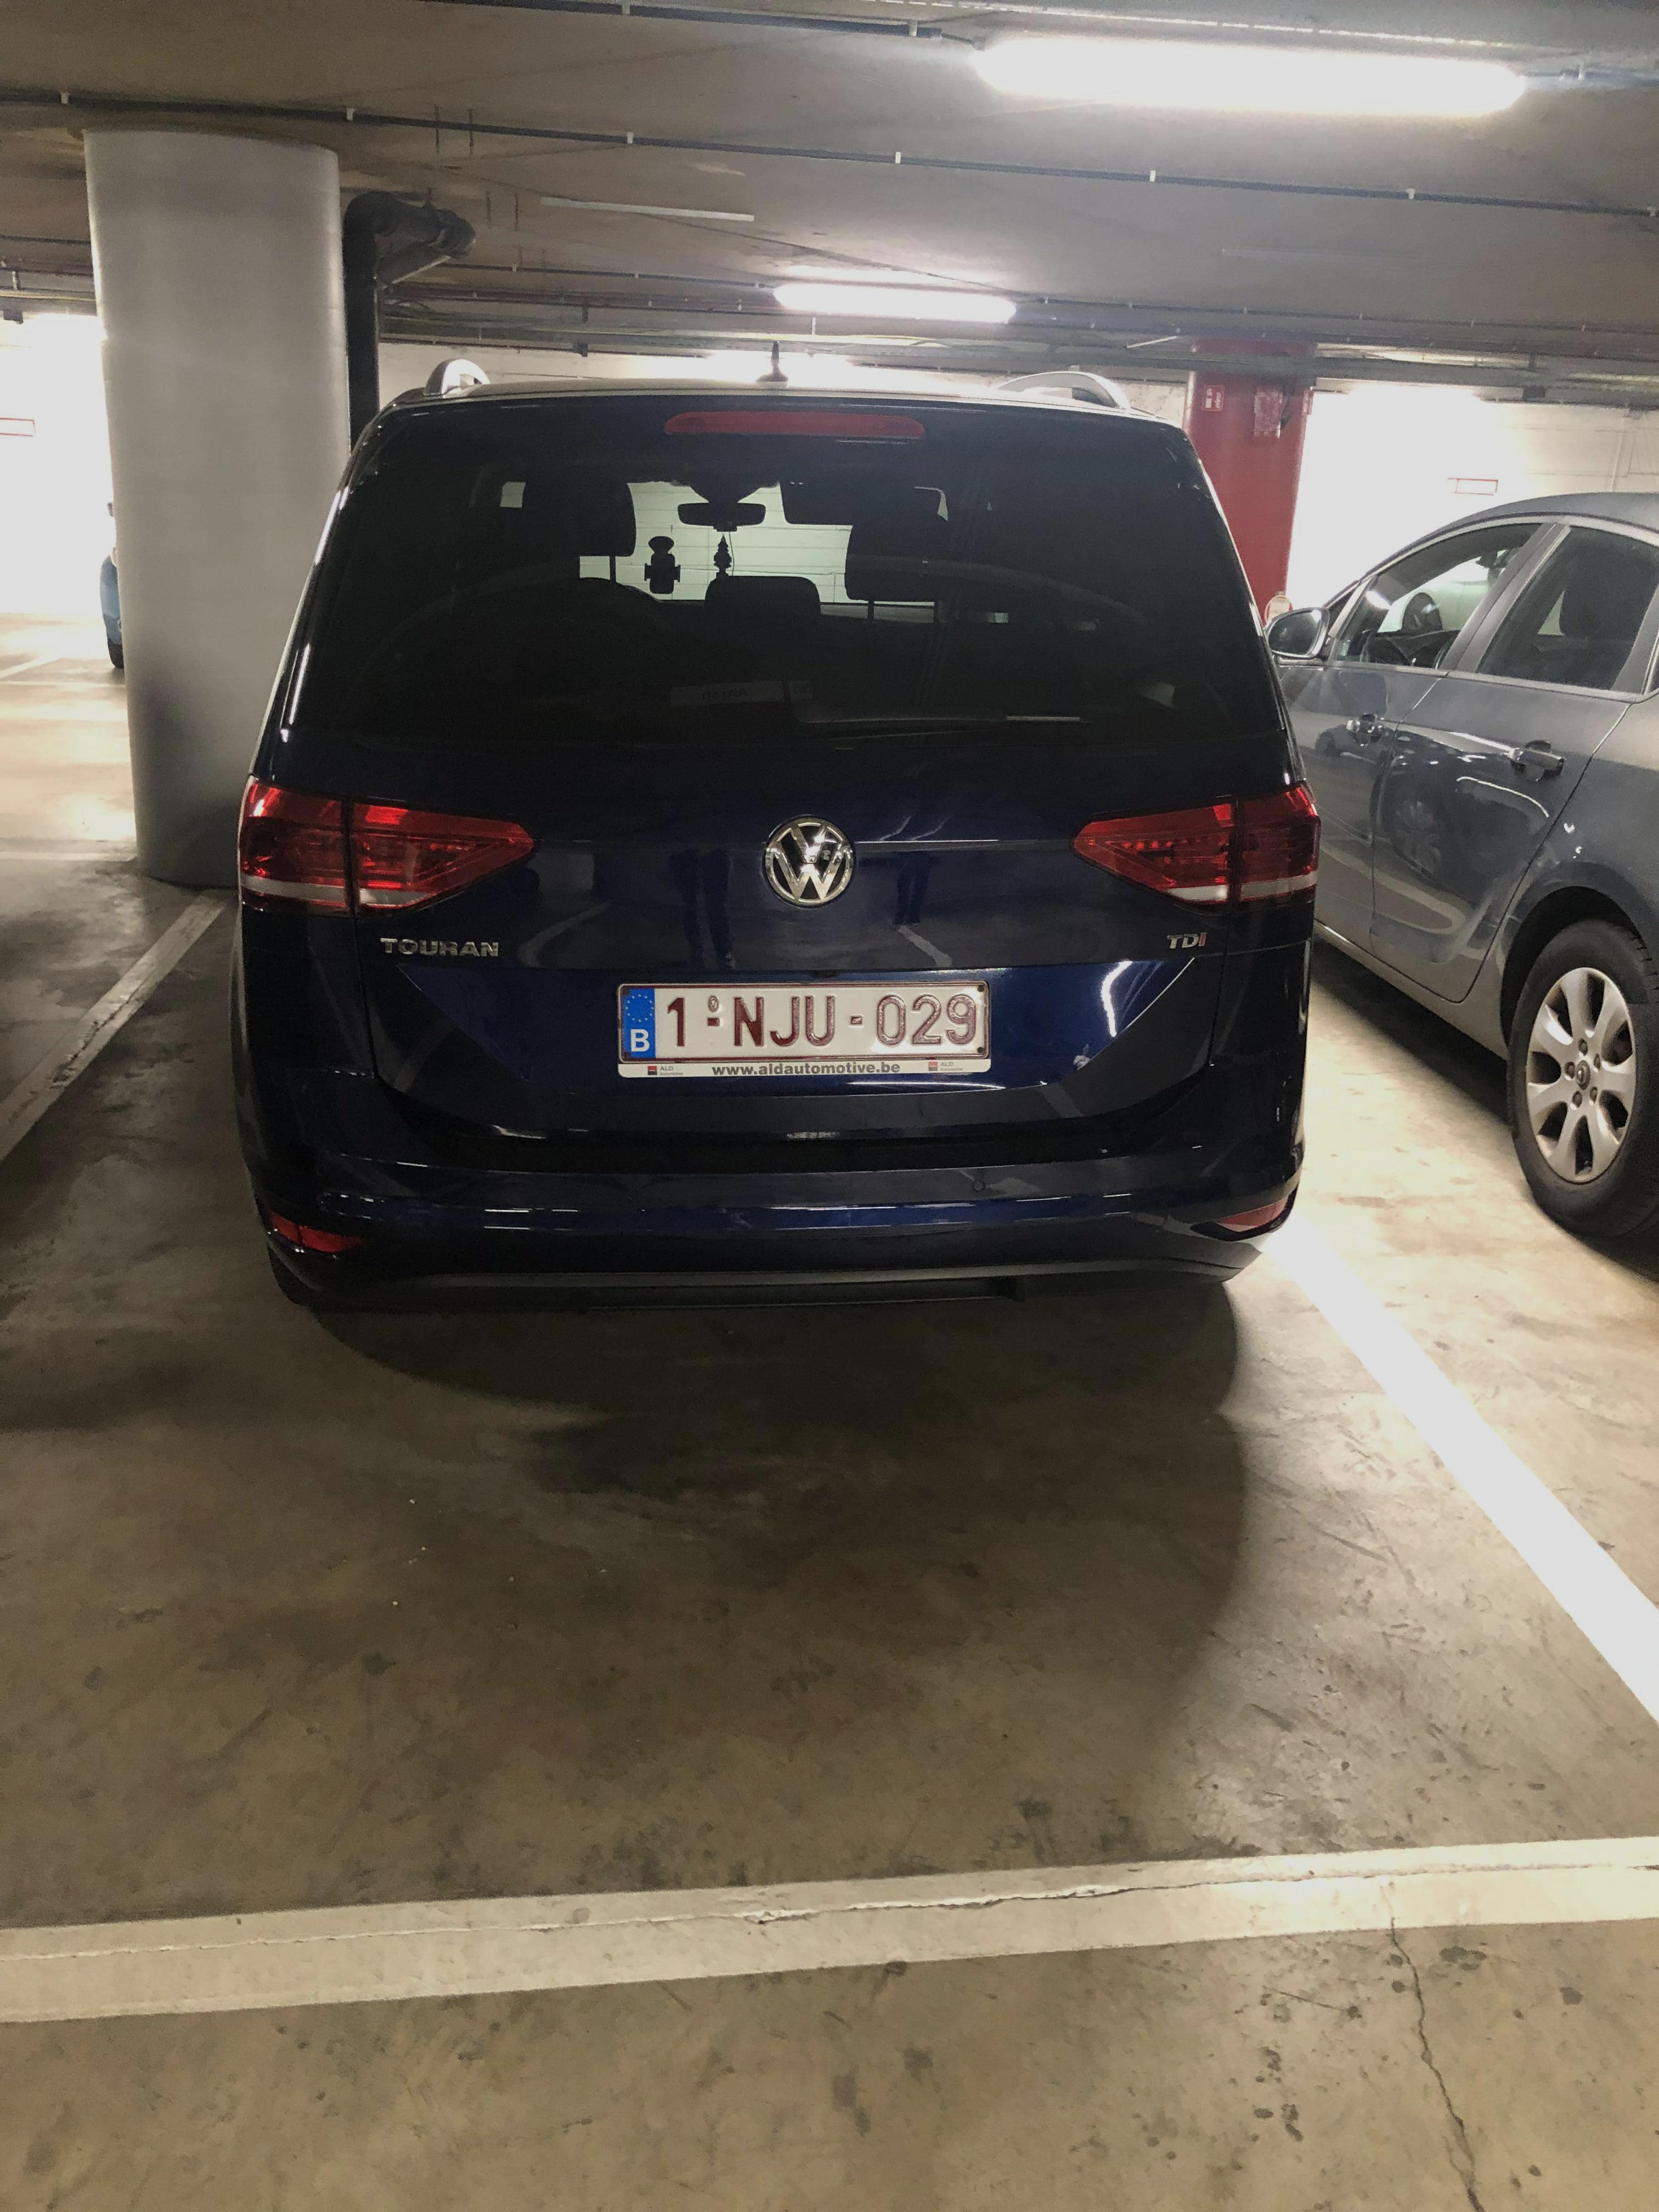plate: (597, 972, 1018, 1082)
